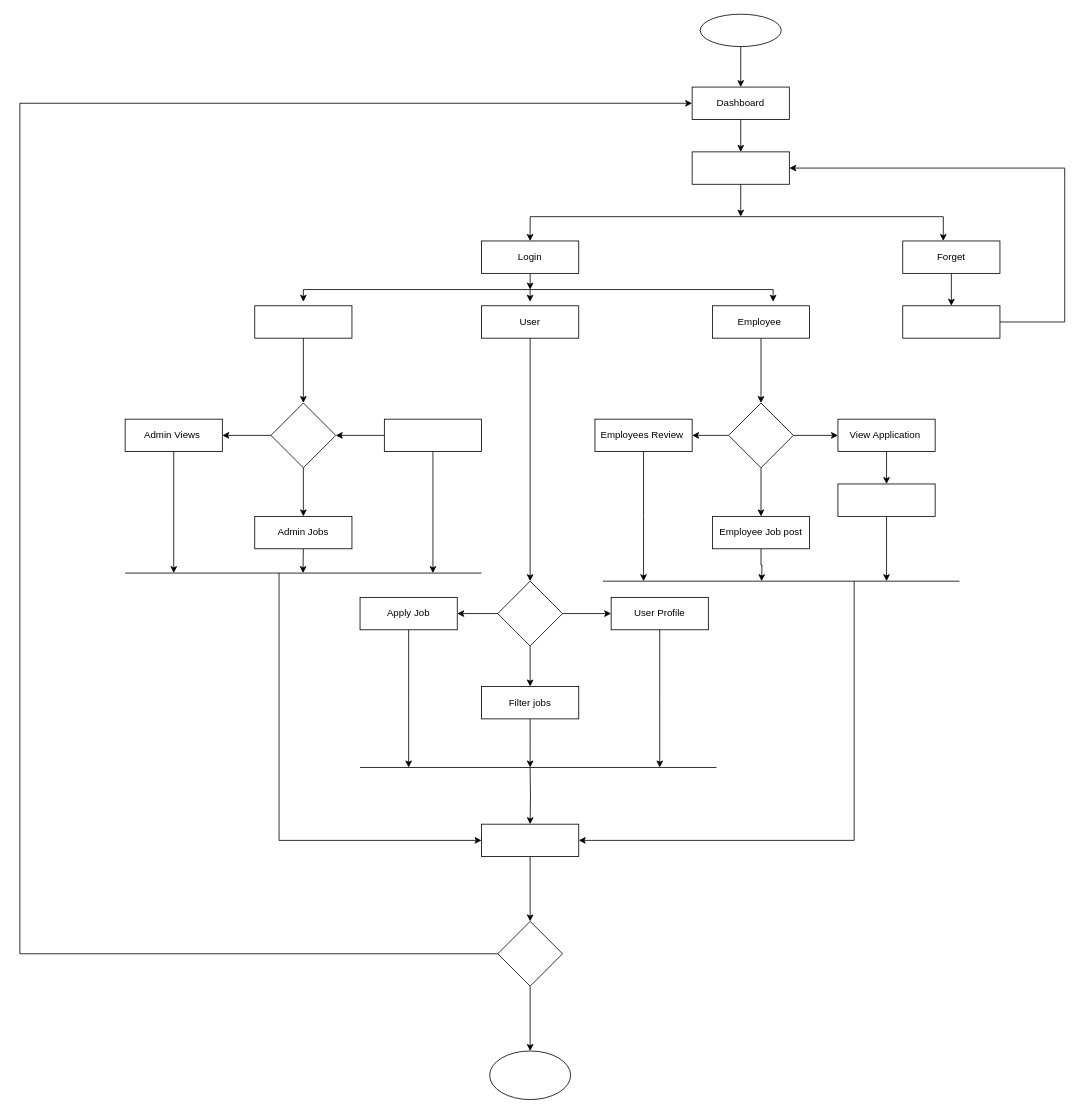
Some shapes in this 1085 by 1114 pixel diagram are drawn without their labels. The box of each missing label's shape, as (x1, y1, x2, y2) in pixels:
Admin News: (384, 418, 482, 452)
End: (489, 1050, 571, 1100)
Logout: (481, 823, 579, 857)
Payment: (837, 483, 935, 516)
Setup: (902, 305, 1000, 338)
Signup: (691, 151, 789, 184)
Start: (699, 13, 781, 47)
